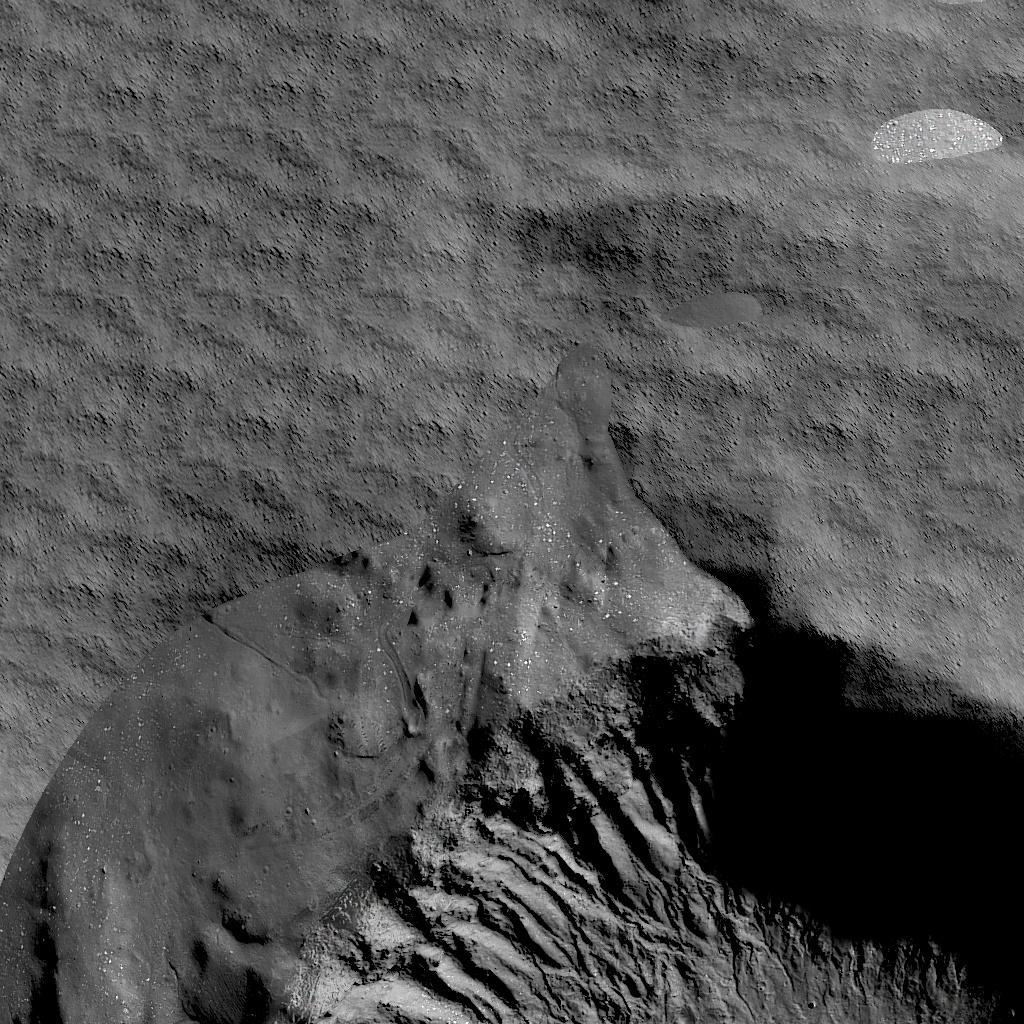Crater: (0, 570, 1024, 1024)
Plan surface: (0, 0, 1024, 558)
